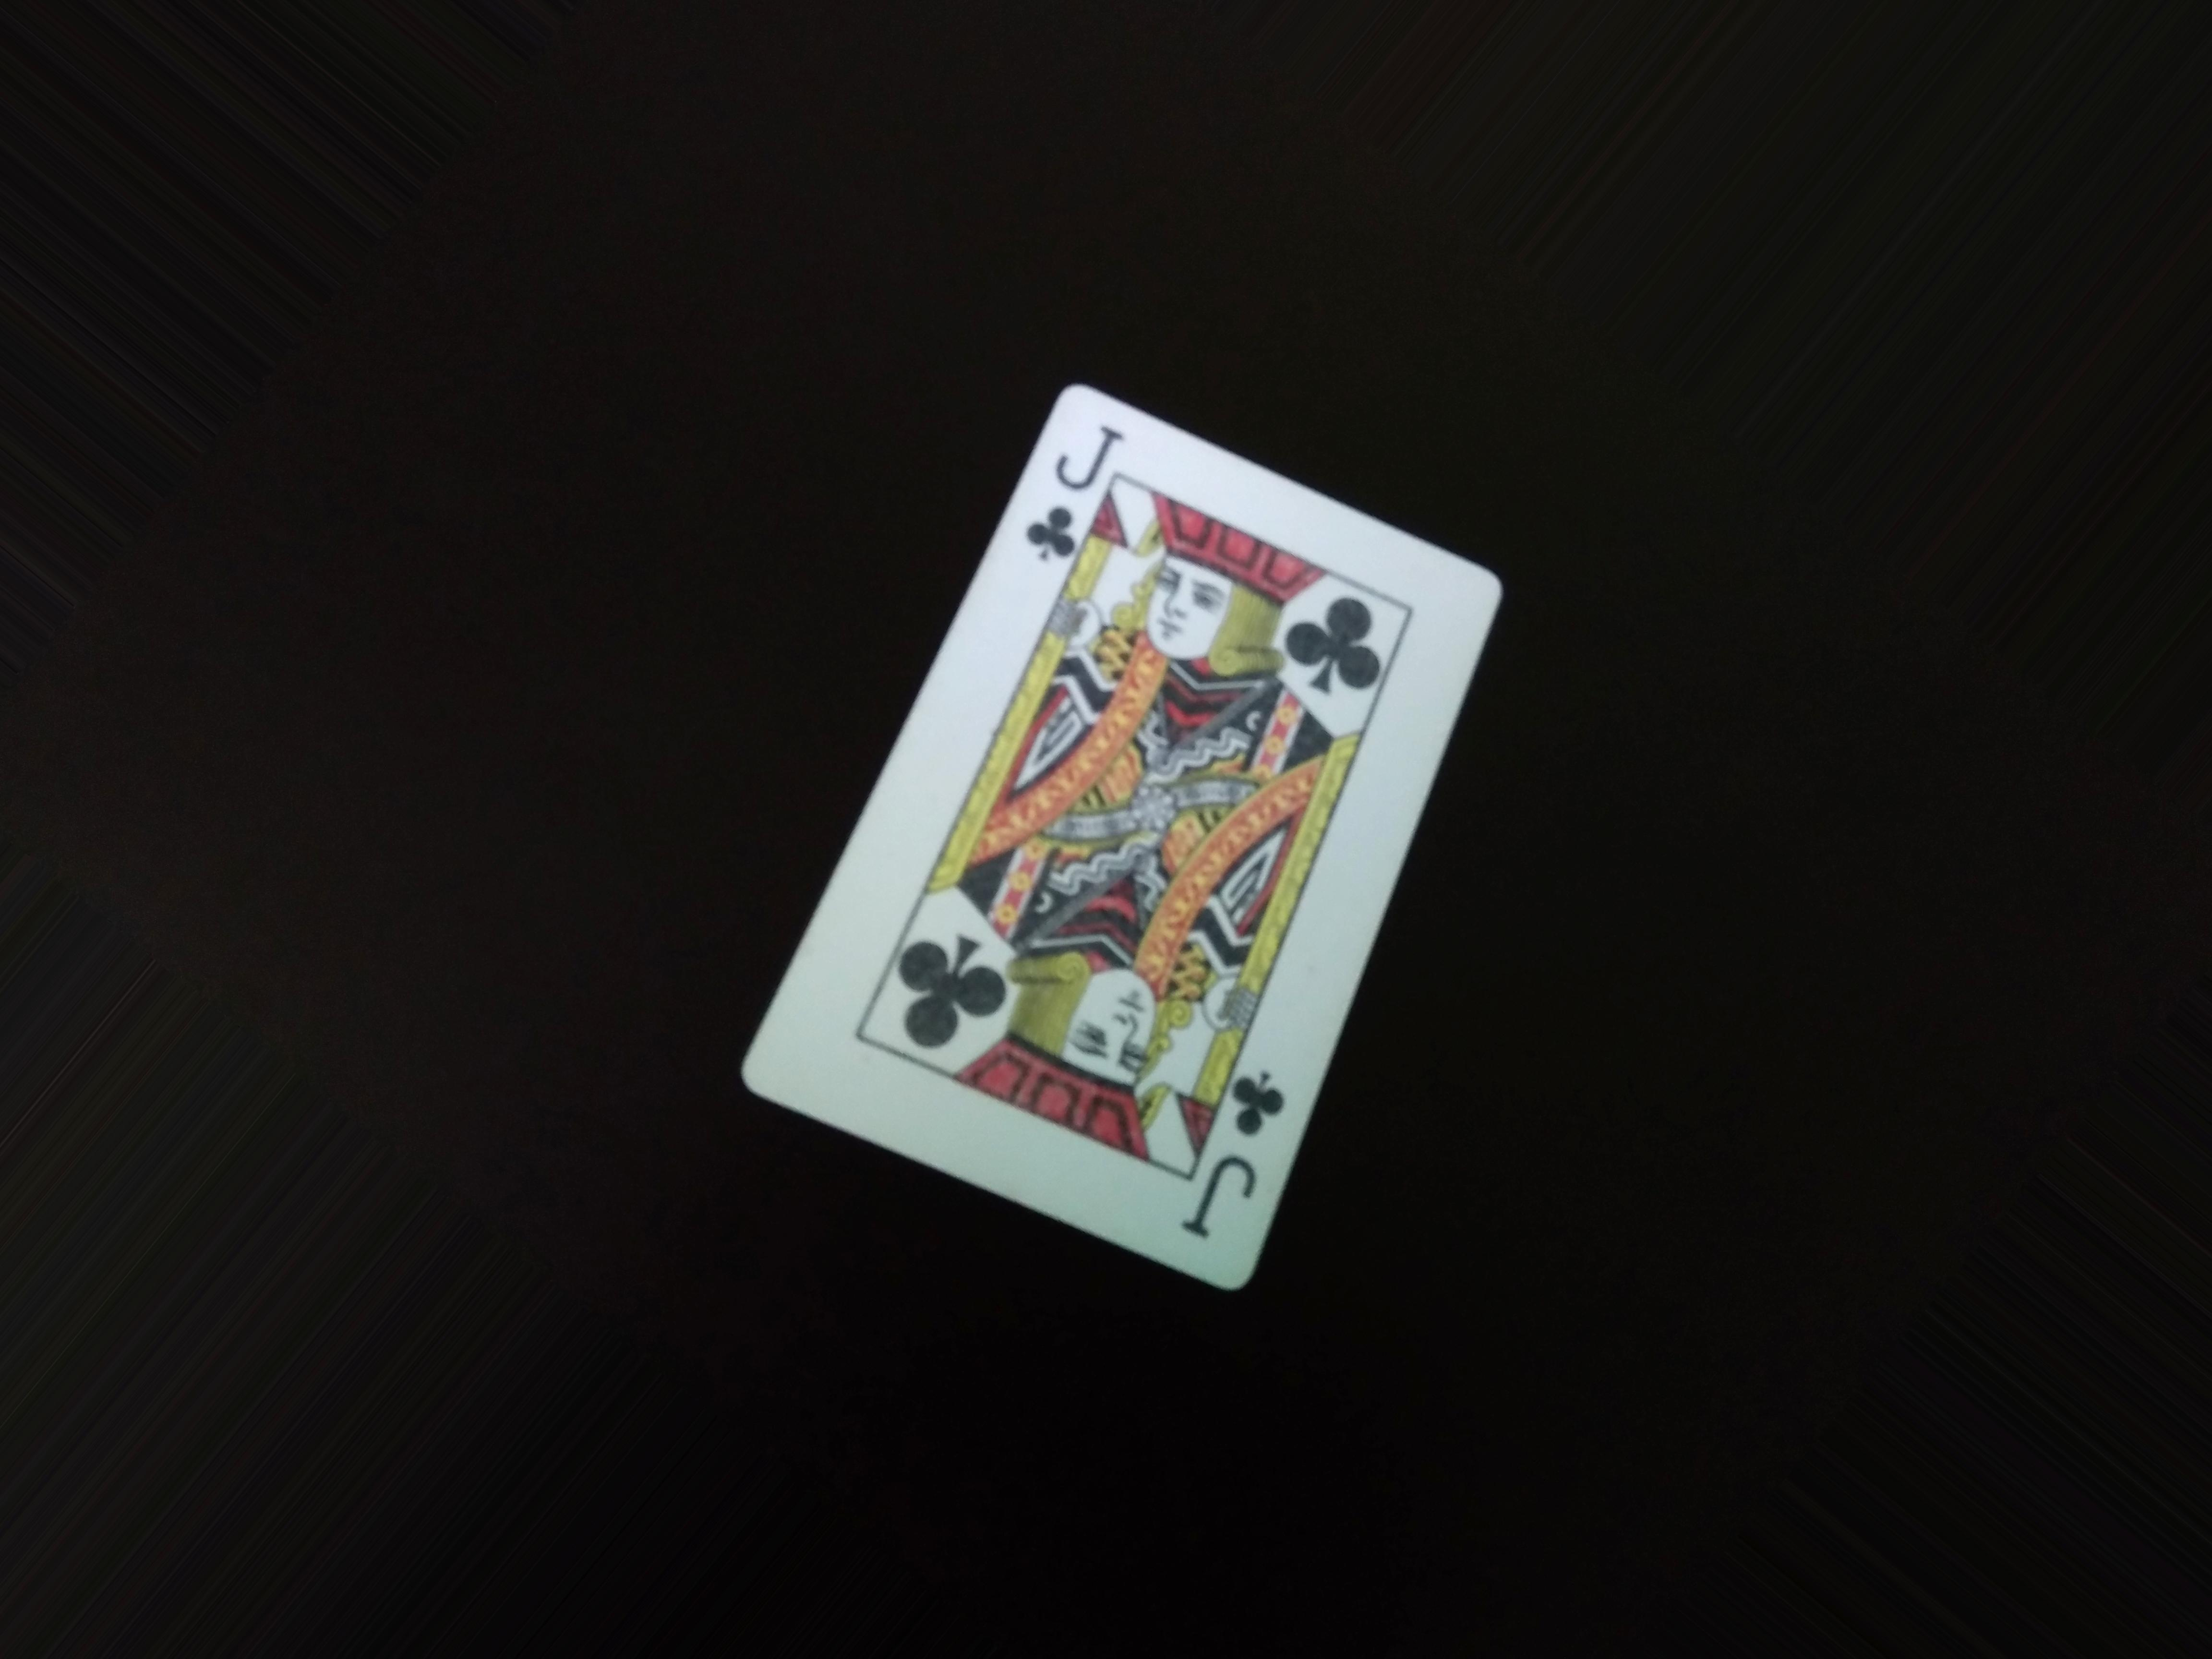JC: (1184, 1066, 1291, 1249)
